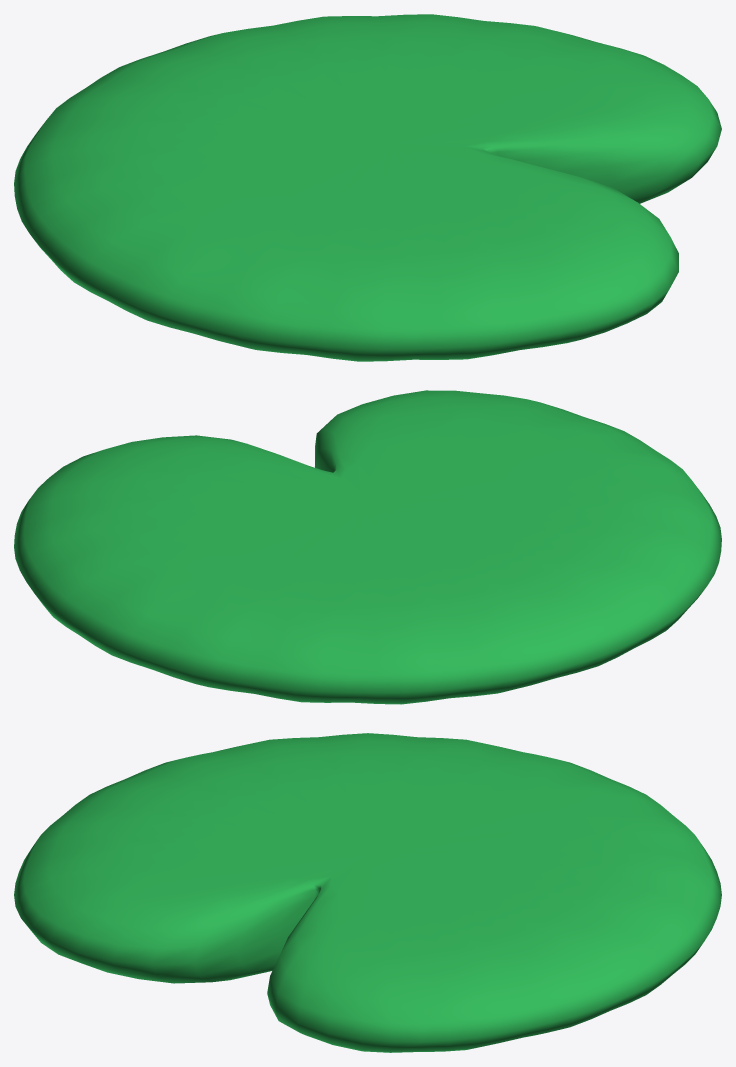
File: LilyPad.fbx
The picture shows the model from 3 angles, top to bottom: view 1: azimuth 30°, elevation 25°; view 2: azimuth 150°, elevation 25°; view 3: azimuth 270°, elevation 25°; orthographic projection. The views are drawn at different scales.
Visible parts, largest first — view 1: pCylinder1; view 2: pCylinder1; view 3: pCylinder1.
Boxes of the visible parts, bbox=[...] form: pCylinder1: bbox=[14, 14, 721, 361]; pCylinder1: bbox=[14, 390, 721, 704]; pCylinder1: bbox=[14, 733, 721, 1052].
Bounding box in the file's own units: 3.6 × 0.4604 × 3.63.
